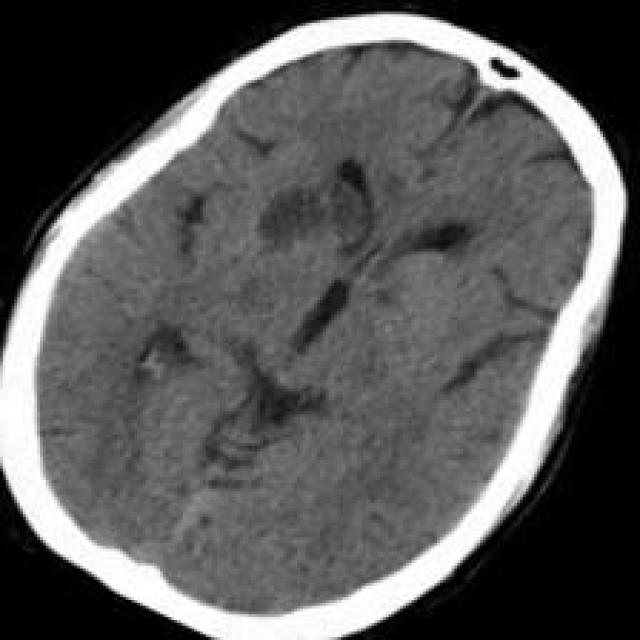no_tumor: (0, 14, 627, 636)
